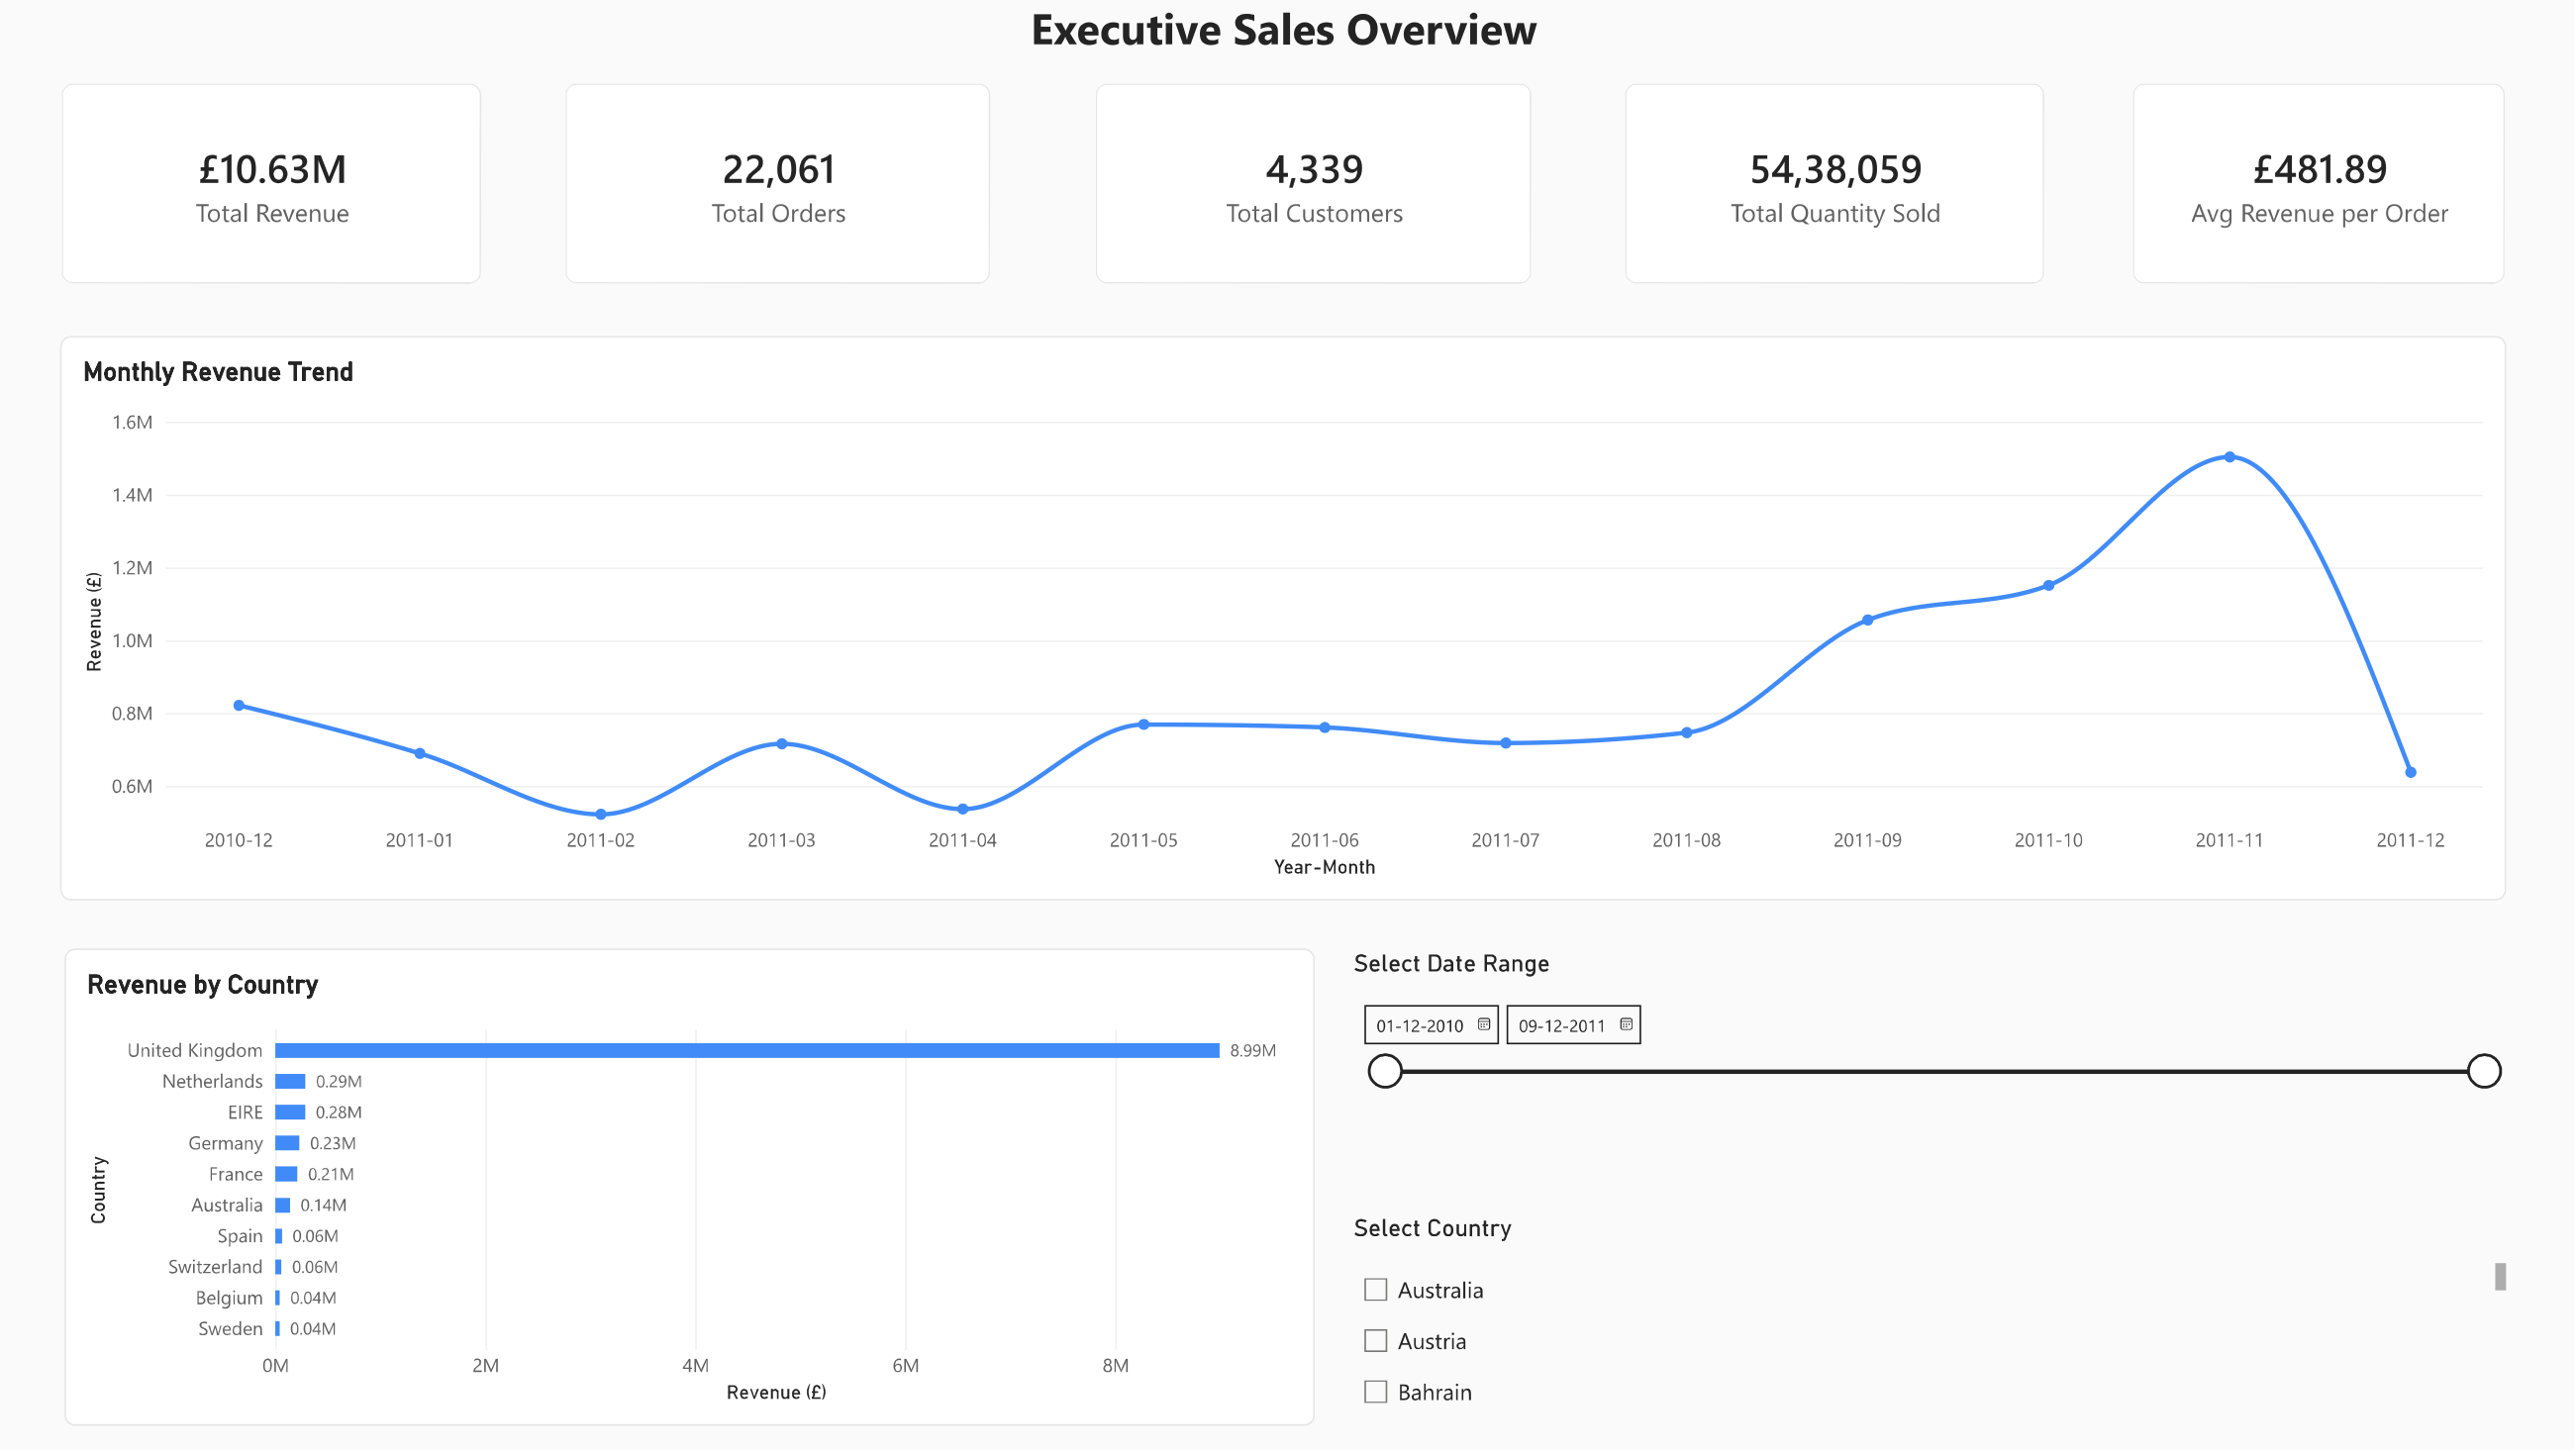

The dashboard page shown, as its layout file describes it:
{"tool":"powerbi","page":{"name":"Executive Overview","canvas":[1920,1080],"ordinal":0},"visuals":[{"type":"cardVisual","fields":{"Data":["OnlineRetail.Total Sales KPI"]},"box":[50.4,64.2,312.5,149.3],"z":0},{"type":"cardVisual","fields":{"Data":["OnlineRetail.Total Orders KPI"]},"box":[425.4,64.2,316,149.3],"z":1000},{"type":"cardVisual","fields":{"Data":["OnlineRetail.Total Customers KPI"]},"box":[819.5,64.2,324.7,149.3],"z":2000},{"type":"cardVisual","fields":{"Data":["OnlineRetail.Total Quantity Sold"]},"box":[1213.7,64.2,312.5,149.3],"z":3000},{"type":"cardVisual","fields":{"Data":["OnlineRetail.Average Revenue Per Order KPI"]},"box":[1592.2,64.2,277.8,149.3],"z":4000},{"type":"textbox","box":[0,0,1920.4,48.6],"z":5000},{"type":"lineChart","title":"Monthly Revenue Trend","fields":{"Category":["DateTable.Year-Month"],"Y":["OnlineRetail.Eligible Sales Revenue"]},"box":[48.6,251.8,1821.4,420.2],"z":6000},{"type":"clusteredBarChart","title":"Revenue by Country","fields":{"Category":["OnlineRetail.Country"],"Y":["OnlineRetail.Eligible Sales Revenue"]},"box":[52.1,708.4,930.7,354.2],"z":7000},{"type":"slicer","title":"Select Date Range","fields":{"Values":["DateTable.Date"]},"box":[1011.6,707.6,858.6,149.2],"z":8000},{"type":"slicer","title":"Select Country","fields":{"Values":["OnlineRetail.Country"]},"box":[1011.6,904.5,858.6,156.8],"z":9000}]}

Visuals, with their boxes in screenshot pixels (x1, y1, x2, y2), scaled from the page's 1920x1080 canvas onto the 2576x1451 screenshot:
cardVisual - OnlineRetail.Total Sales KPI: Rect(67, 86, 487, 287)
cardVisual - OnlineRetail.Total Orders KPI: Rect(571, 86, 995, 287)
cardVisual - OnlineRetail.Total Customers KPI: Rect(1100, 86, 1536, 287)
cardVisual - OnlineRetail.Total Quantity Sold: Rect(1629, 86, 2047, 287)
cardVisual - OnlineRetail.Average Revenue Per Order KPI: Rect(2136, 86, 2509, 287)
textbox: Rect(0, 0, 2575, 65)
"Monthly Revenue Trend" lineChart: Rect(65, 339, 2509, 903)
"Revenue by Country" clusteredBarChart: Rect(70, 952, 1319, 1427)
"Select Date Range" slicer: Rect(1357, 951, 2510, 1151)
"Select Country" slicer: Rect(1357, 1215, 2510, 1426)
